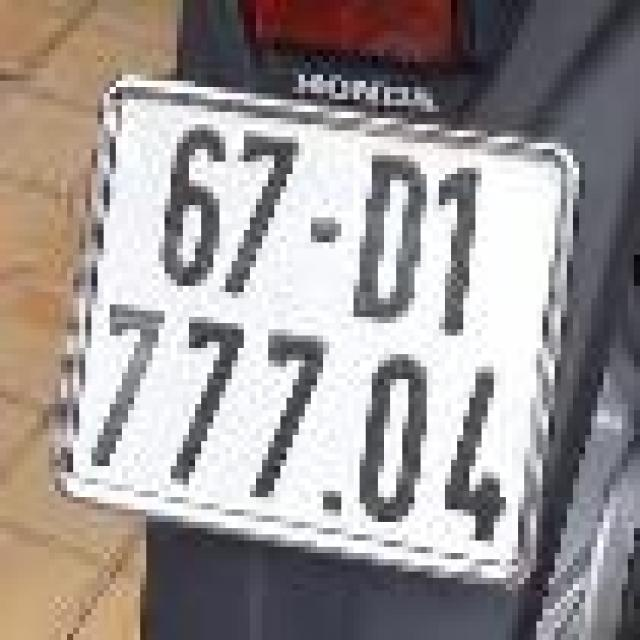0: (350, 336, 442, 534)
1: (426, 152, 494, 345)
4: (448, 348, 521, 541)
6: (146, 115, 238, 295)
7: (82, 286, 168, 491), (244, 317, 335, 509), (226, 112, 304, 311), (158, 311, 238, 491)
D: (350, 134, 436, 332)
